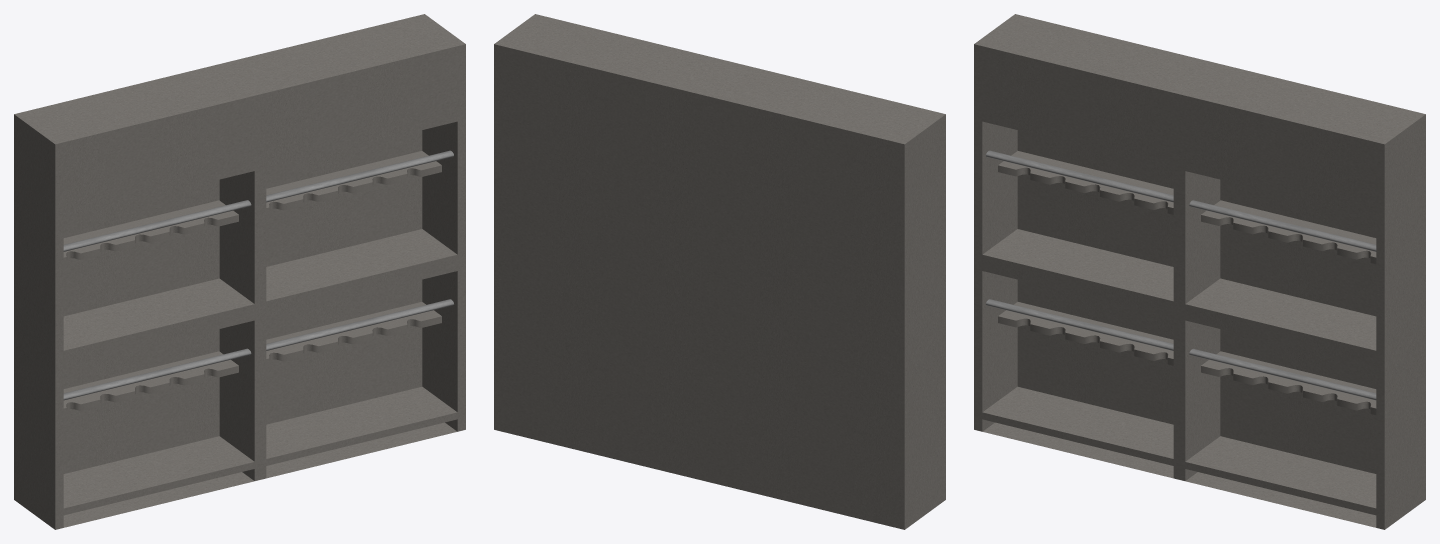
File: gun shelf.fbx
3 views of the same model, side by side, from view 1: azimuth 30°, elevation 25°; view 2: azimuth 150°, elevation 25°; view 3: azimuth 330°, elevation 25° (orthographic).
Parts seen in each view (by area): view 1: polySurface4265; view 2: polySurface4265; view 3: polySurface4265.
Part boxes in pixels (x1,y1,x2,y2): polySurface4265: (14, 14, 465, 529); polySurface4265: (494, 14, 945, 529); polySurface4265: (974, 14, 1425, 529).
Size of the model in its own units: 2.89 by 2.6 by 0.503.
Materials: 1 (1 with a texture image).
